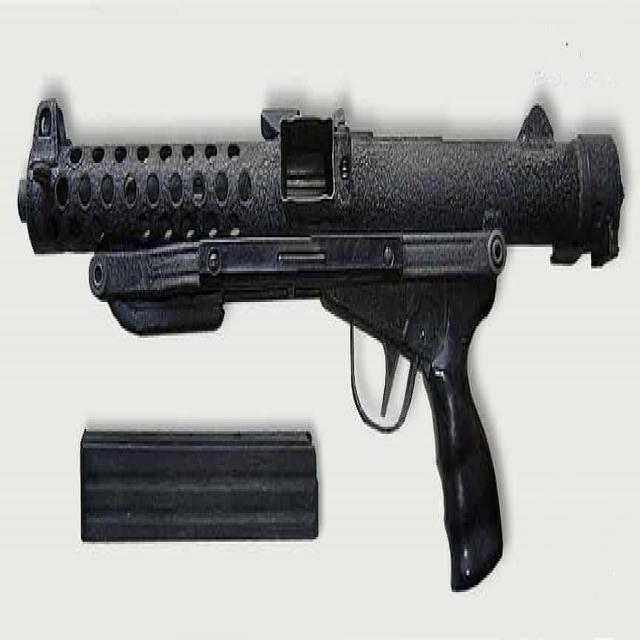firearm: (17, 92, 624, 592)
